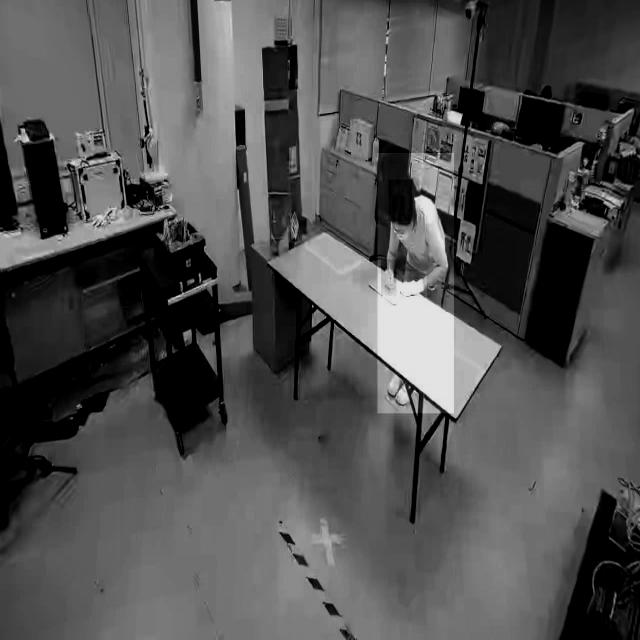hand_glove: (400, 271, 428, 311), (381, 260, 397, 296)
head_nohelmet: (389, 180, 413, 222)
person: (378, 153, 454, 414)
